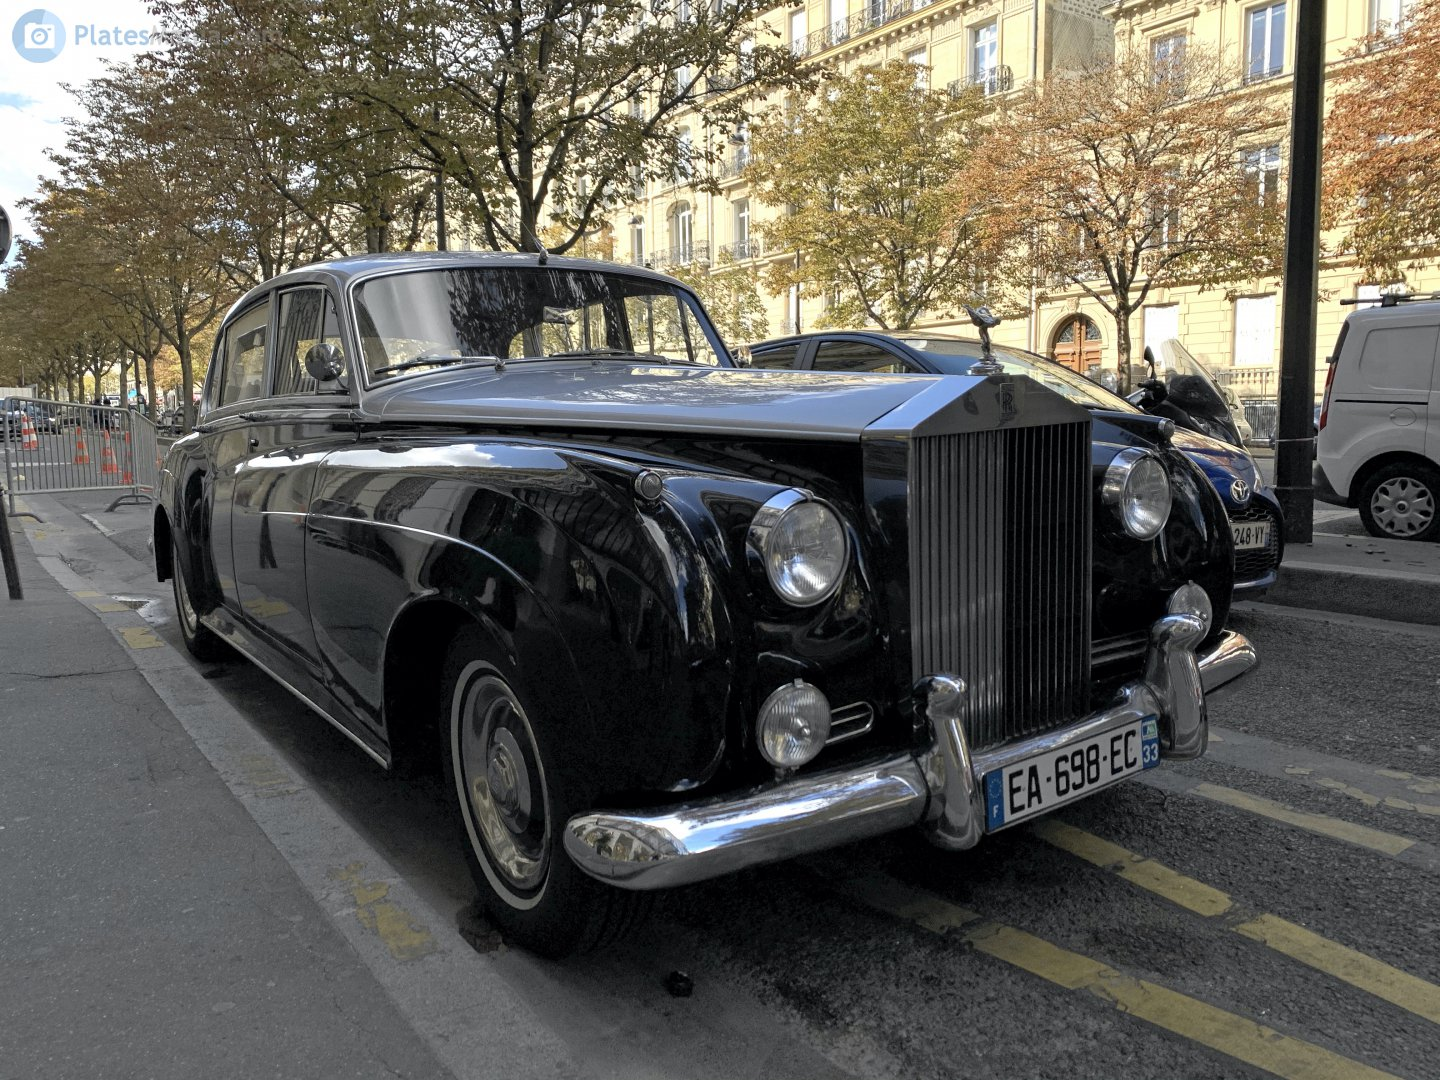licence plate: (981, 713, 1167, 838)
